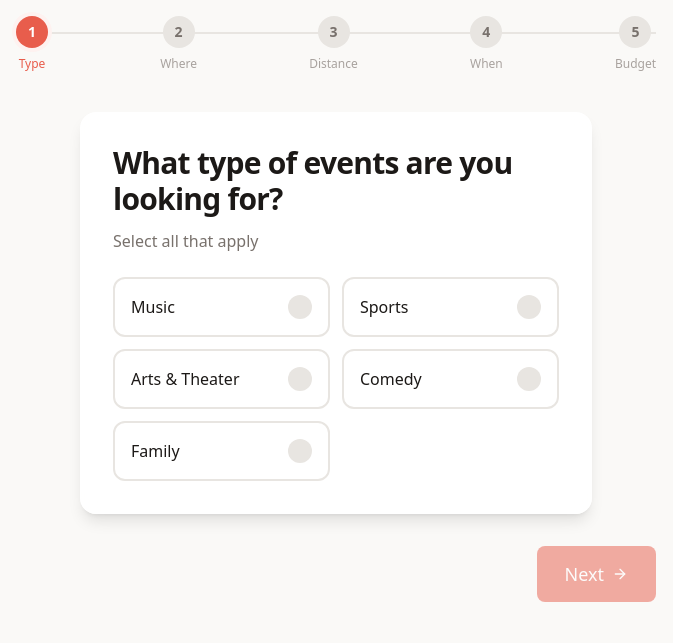
Test: QuestionFlow › allows going back to previous question
// Answer first question and go to next
Click the button "Music".
click(222, 307)  # box [113,277,330,337]
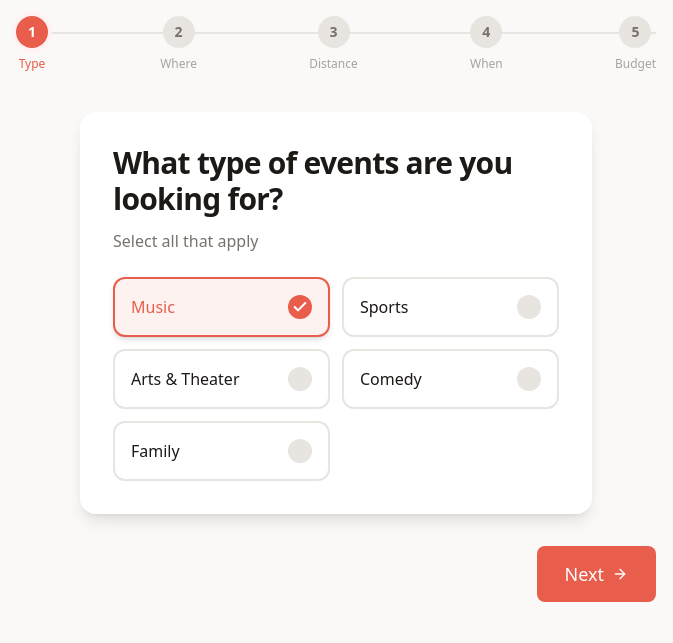
Click the button "Next".
click(596, 574)  # box [536,546,656,602]
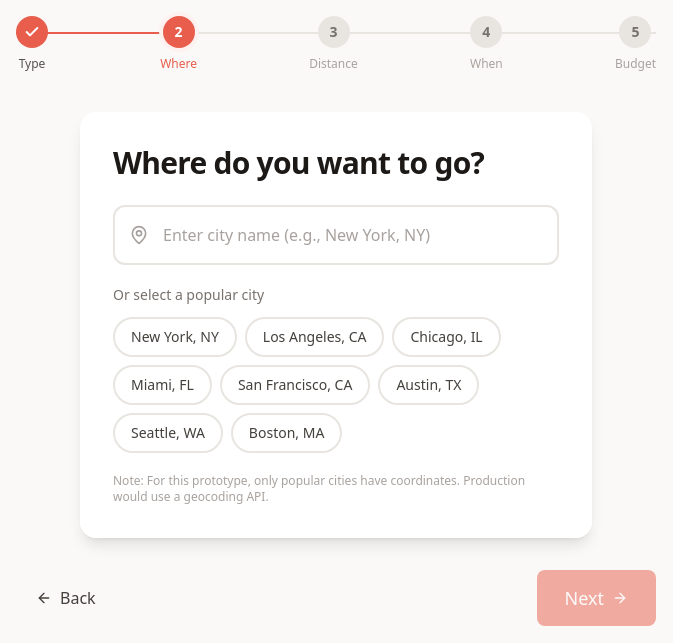
expect the heading "Where do you want to go?" is shown: met, box [113,142,484,183]
// Click Back
Click the button "Back".
click(66, 598)  # box [16,576,116,620]
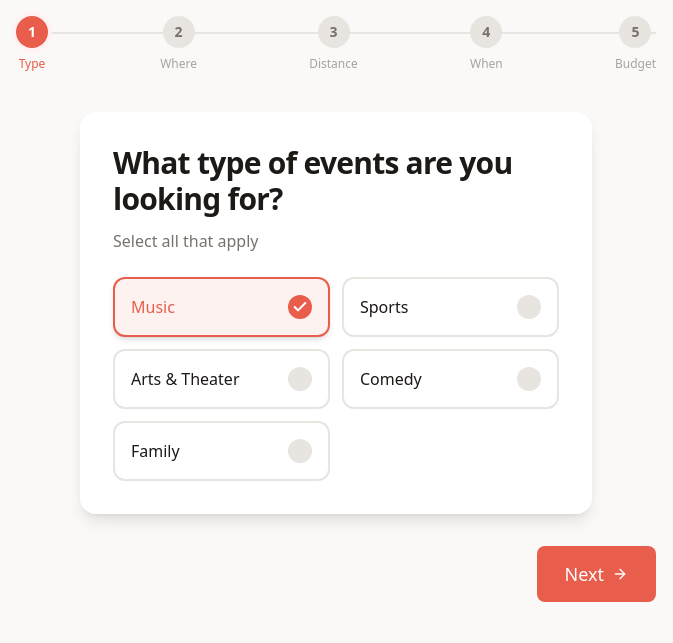
expect the heading "What type of events are you looking for?" is shown: met, box [113,145,559,217]
